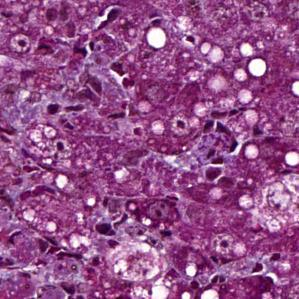ballooning: (104, 238, 165, 285)
